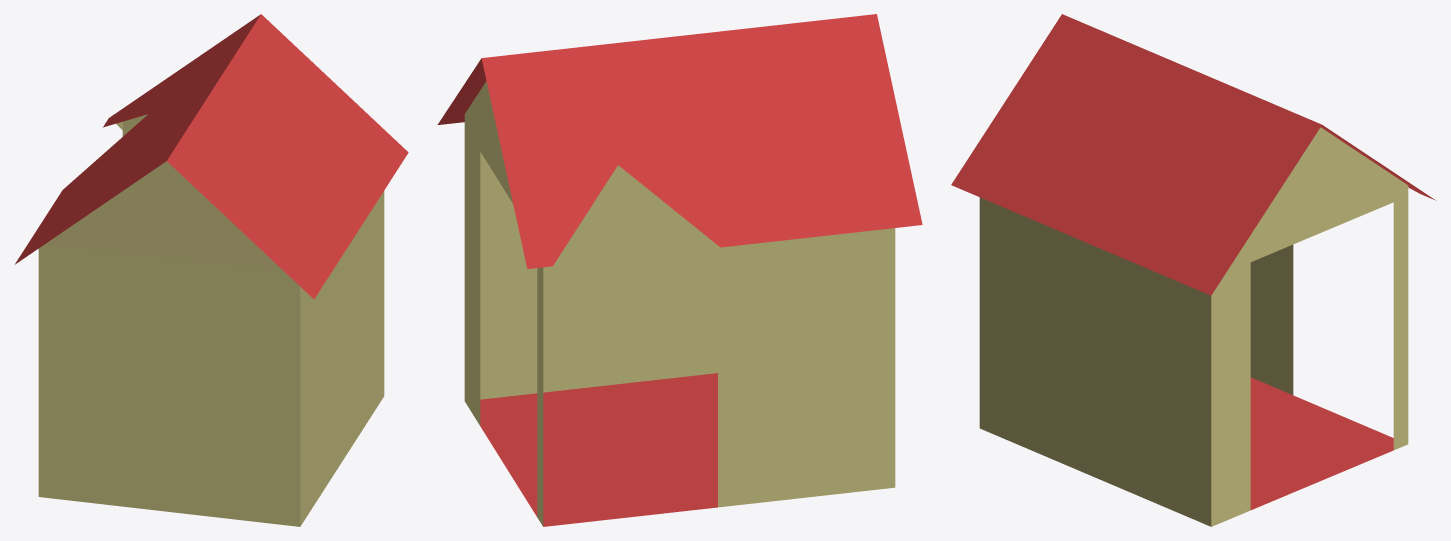
The picture shows the model from 3 angles, left to right: view 1: azimuth 30°, elevation 25°; view 2: azimuth 150°, elevation 25°; view 3: azimuth 270°, elevation 25°; orthographic projection. The views are drawn at different scales.
Bounding box in the file's own units: 18.01 × 18 × 15.04.
